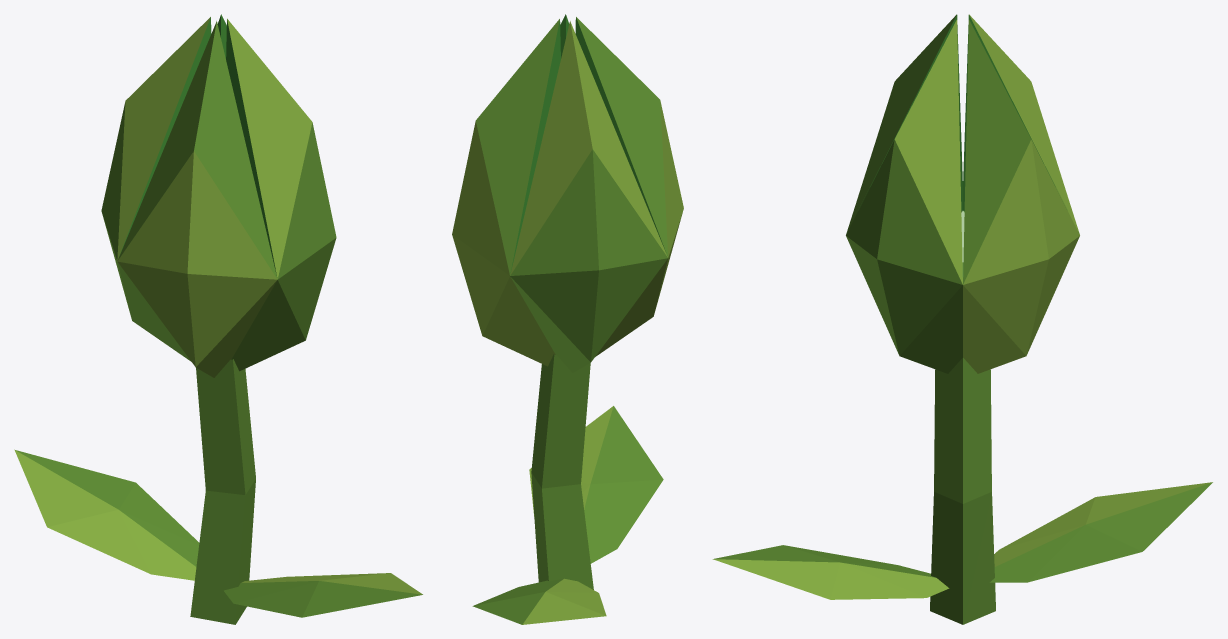
Rendered from dew_bud.glb.
3 views of the same model, side by side, from view 1: azimuth 30°, elevation 25°; view 2: azimuth 150°, elevation 25°; view 3: azimuth 270°, elevation 25° (orthographic).
Visible parts, largest first — view 1: petals, dew_bud; view 2: petals, dew_bud; view 3: petals, dew_bud.
Boxes of the visible parts, x1,y1,x2,y2 form: petals: (101, 14, 336, 377); dew_bud: (14, 359, 422, 624); petals: (452, 14, 683, 372); dew_bud: (472, 354, 663, 624); petals: (846, 14, 1079, 373); dew_bud: (712, 211, 1212, 624).
Bounding box in the file's own units: 0.1763 × 0.475 × 0.3629.
